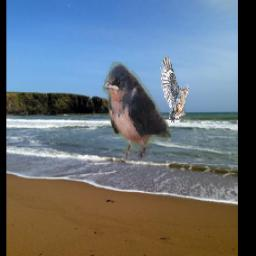Swallow: (102, 62, 171, 161)
Woodpecker: (160, 54, 189, 124)
